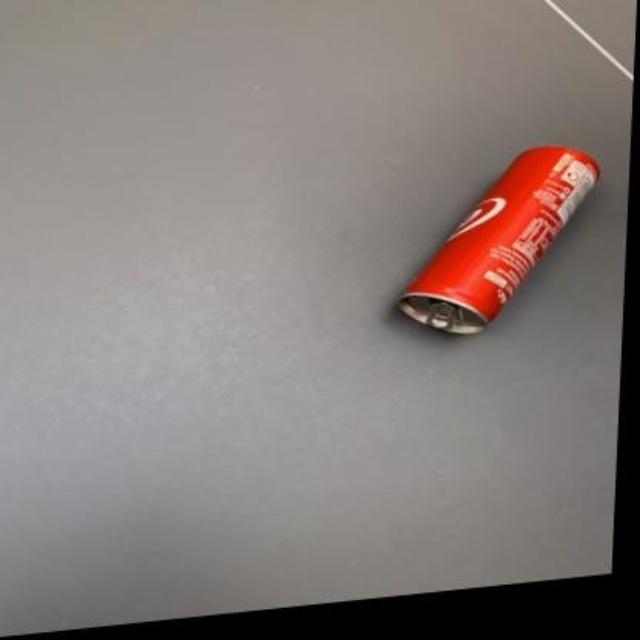trash: (397, 148, 598, 334)
